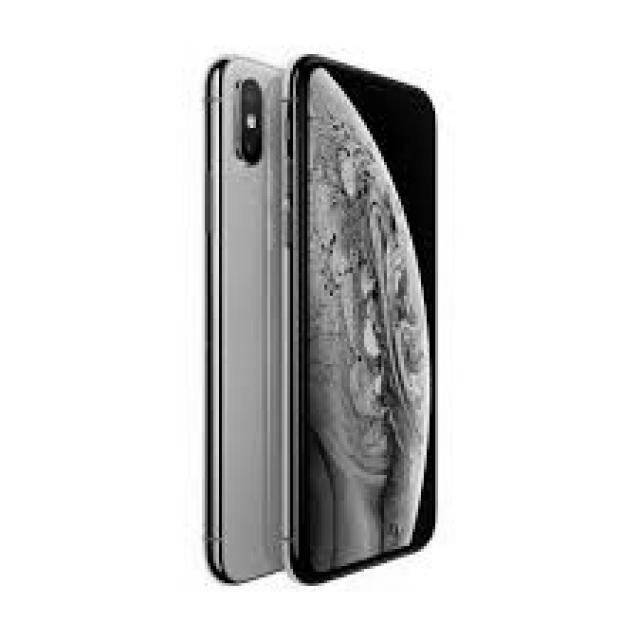fake: (287, 54, 439, 588)
